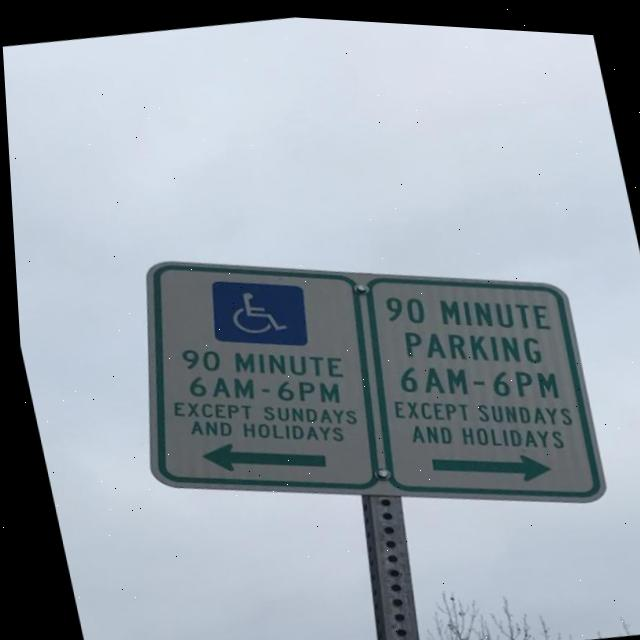symbol_of_access: (207, 268, 304, 349)
